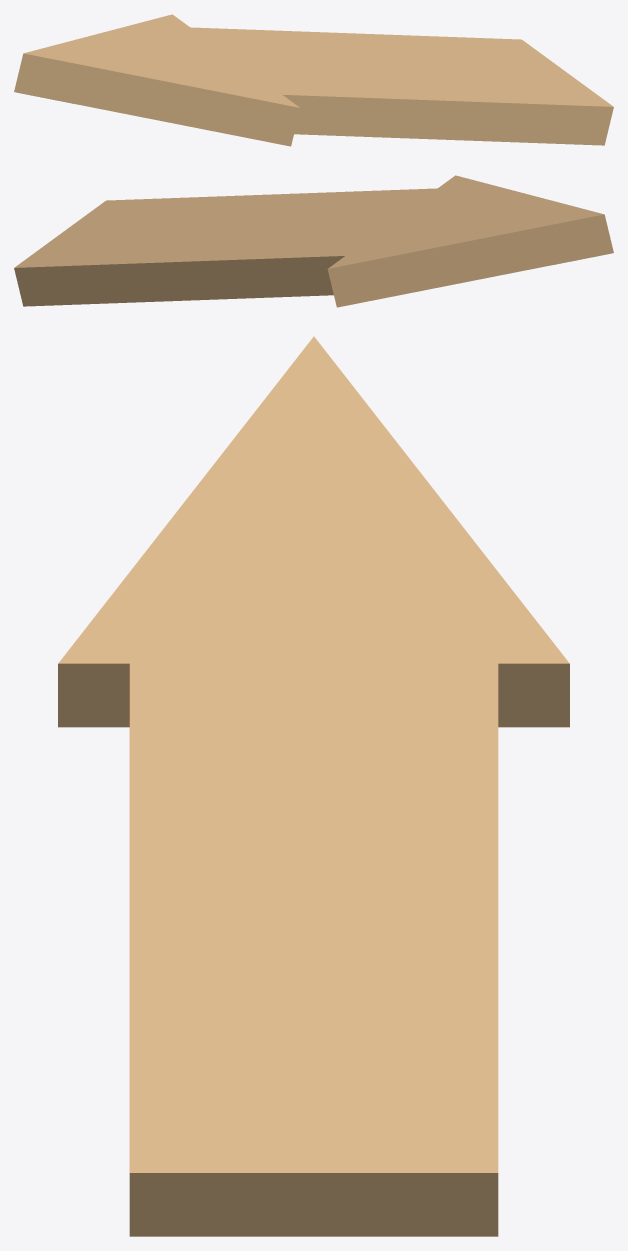
The model's file is flecha.obj.
3 views of the same model, one above another, from view 1: azimuth 30°, elevation 25°; view 2: azimuth 150°, elevation 25°; view 3: azimuth 270°, elevation 25° (orthographic). The views are drawn at different scales.
Visible parts, largest first — view 1: ArrowTriangular; view 2: ArrowTriangular; view 3: ArrowTriangular.
Part boxes in pixels (x1=…): ArrowTriangular: x1=14, y1=14, x2=613, y2=146; ArrowTriangular: x1=14, y1=175, x2=613, y2=307; ArrowTriangular: x1=58, y1=336, x2=569, y2=1236.
Bounding box in the file's own units: 3.92 × 1.28 × 1.57.
